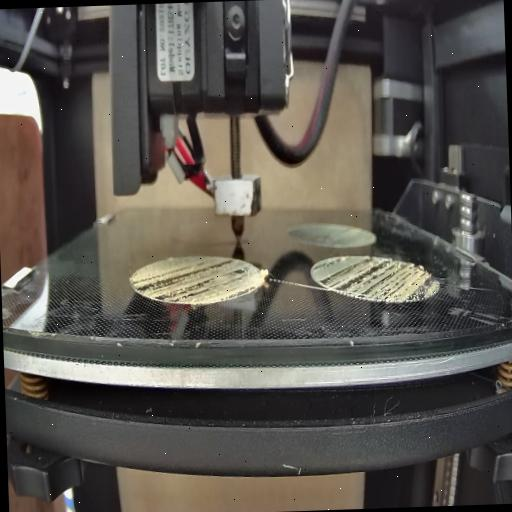under_extrusion: (129, 257, 255, 306), (314, 256, 436, 302)
